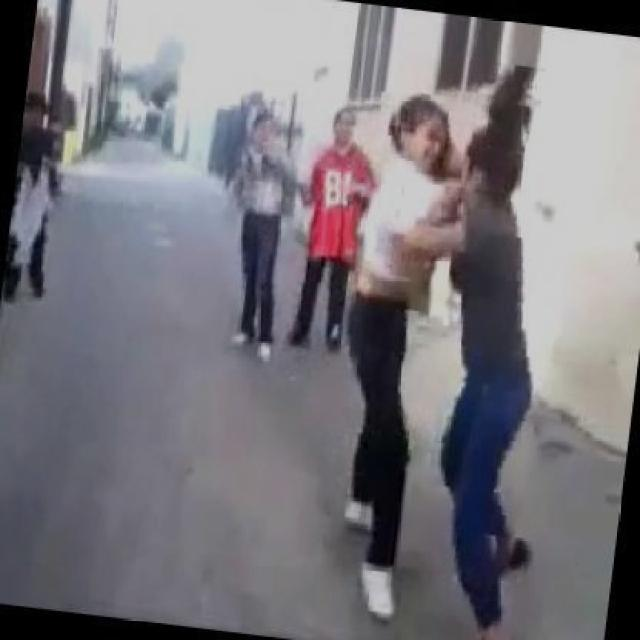fight: (322, 59, 541, 629)
non-fight: (274, 90, 389, 362)
